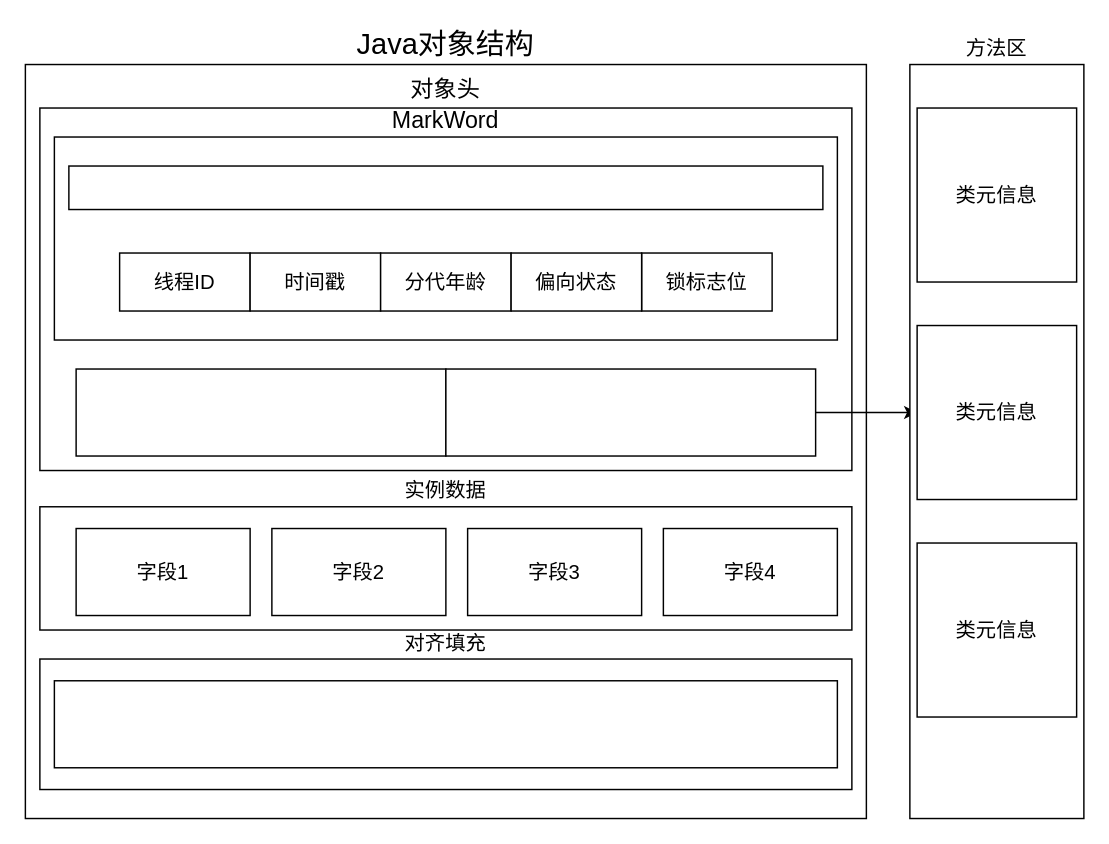
Image size: 1109x844. Some labels were removed from this diagram. The shapes that lost their labels are listed below. From the top down, each one's centre as x and y in pixels, then its label:
At (x=445, y=187): "对象的Hash码".
At (x=260, y=412): "数组长度(数组才有)".
At (x=630, y=412): "类型指针".
At (x=445, y=723): "对齐字节".
